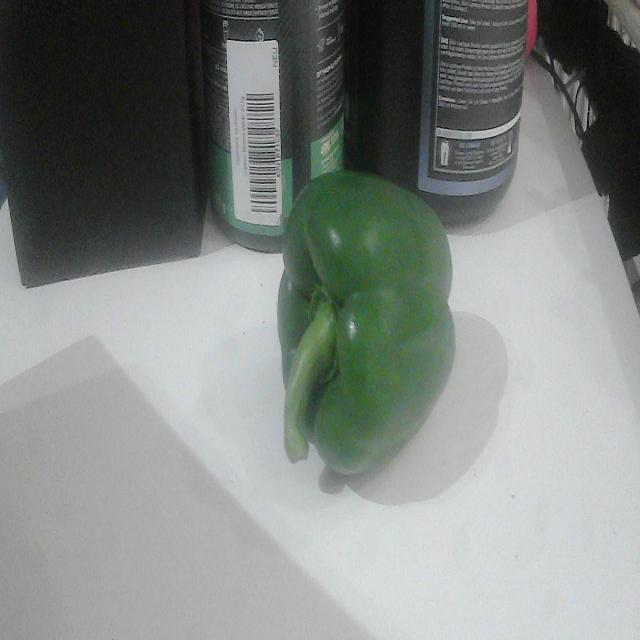Bell Pepper: (278, 168, 454, 474)
